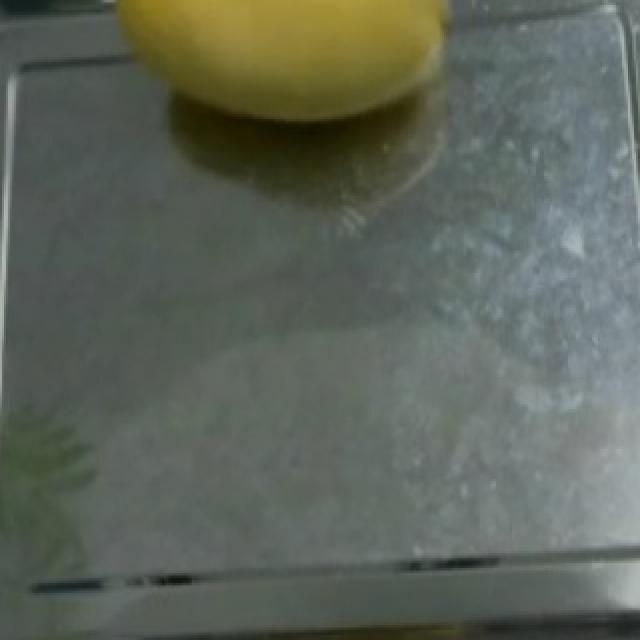fruit: (102, 0, 474, 144)
